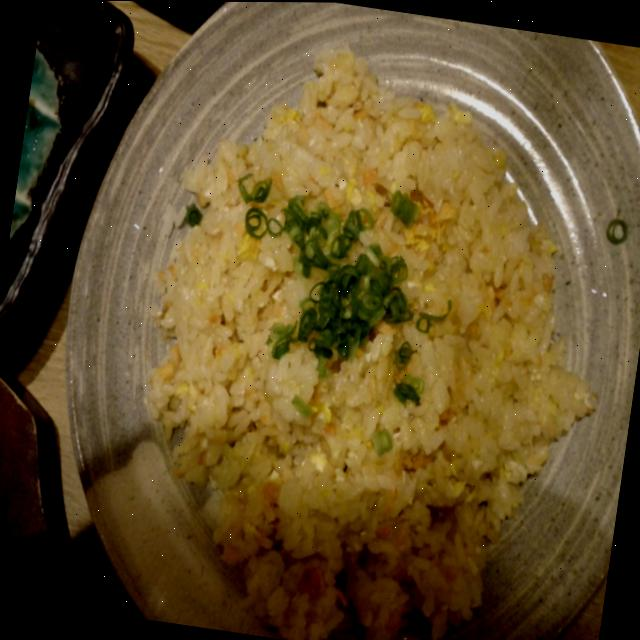米饭主食: (17, 0, 640, 640)
